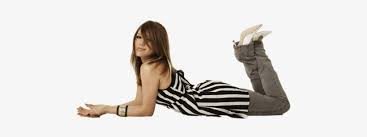no-mask: (132, 18, 162, 62)
